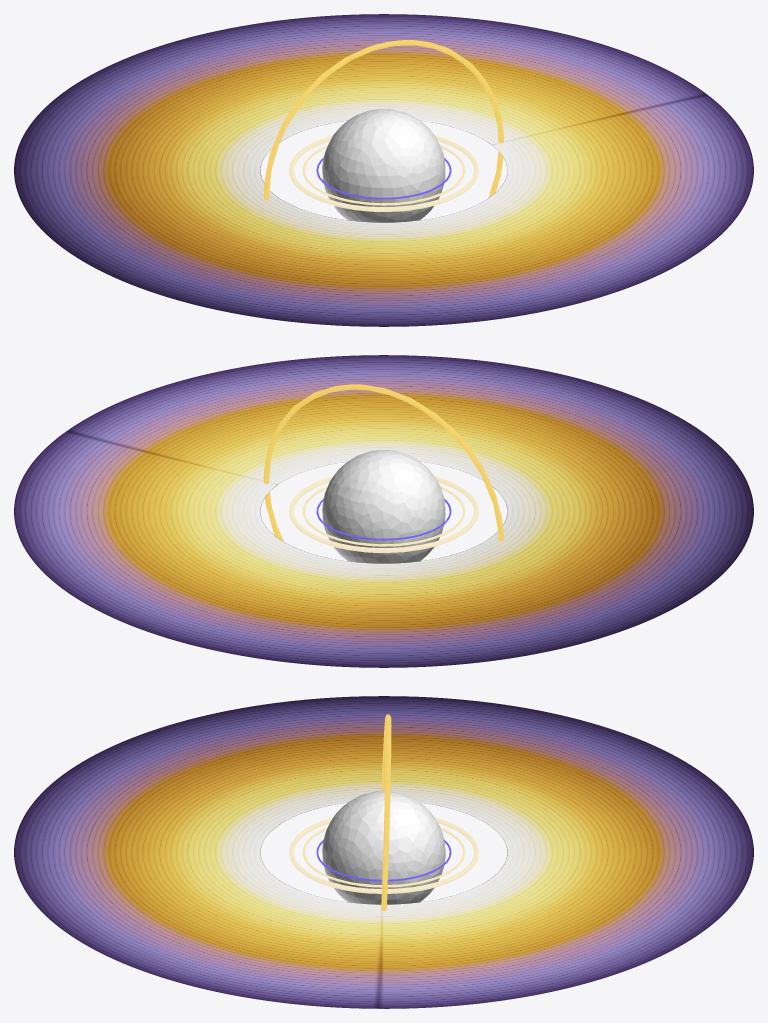
The model's file is blackhole.glb.
3 views of the same model, one above another, from view 1: azimuth 30°, elevation 25°; view 2: azimuth 150°, elevation 25°; view 3: azimuth 270°, elevation 25° (orthographic).
Visible parts, largest first — view 1: AccretionDisk, EventHorizon, LensingArc, PhotonRing, InnerPhotonRing; view 2: AccretionDisk, EventHorizon, LensingArc, PhotonRing, InnerPhotonRing; view 3: AccretionDisk, EventHorizon, PhotonRing, LensingArc, InnerPhotonRing.
Boxes of the visible parts, <box> form: AccretionDisk: <box>14,14,753,326</box>; EventHorizon: <box>322,109,445,222</box>; LensingArc: <box>264,40,503,200</box>; PhotonRing: <box>289,135,478,211</box>; InnerPhotonRing: <box>302,145,465,205</box>; AccretionDisk: <box>14,355,753,667</box>; EventHorizon: <box>322,450,445,563</box>; LensingArc: <box>263,384,503,541</box>; PhotonRing: <box>289,476,478,552</box>; InnerPhotonRing: <box>302,486,465,546</box>; AccretionDisk: <box>14,696,753,1008</box>; EventHorizon: <box>322,791,445,904</box>; PhotonRing: <box>289,817,478,893</box>; LensingArc: <box>381,714,391,910</box>; InnerPhotonRing: <box>302,827,465,887</box>.
Size of the model in its own units: 12 by 4.49 by 12.
Materials: 6 (1 with a texture image).
